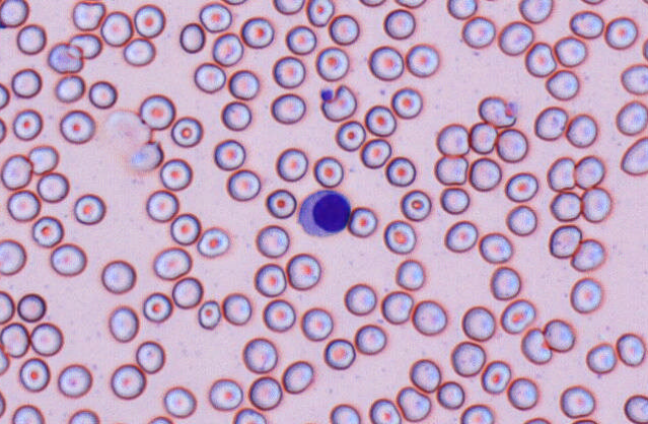LYM: (296, 188, 352, 238)
PLT: (319, 87, 333, 101)
RBC: (103, 109, 151, 147), (139, 93, 175, 130), (110, 363, 146, 399), (286, 253, 321, 290), (153, 246, 191, 280), (450, 340, 485, 376), (411, 299, 446, 335), (500, 298, 535, 334), (242, 337, 277, 373), (59, 109, 95, 144), (368, 45, 404, 80), (49, 242, 86, 276), (57, 363, 92, 398), (101, 259, 136, 294), (396, 386, 431, 421), (498, 20, 533, 55), (461, 305, 495, 341), (559, 384, 595, 418), (248, 375, 282, 410), (315, 46, 349, 81), (100, 10, 133, 46), (405, 43, 439, 77), (534, 105, 567, 140), (383, 219, 416, 254), (0, 153, 32, 189), (570, 277, 602, 313), (108, 305, 139, 342), (262, 298, 295, 332), (226, 168, 260, 201), (30, 322, 63, 356), (571, 238, 605, 271), (468, 157, 501, 191), (548, 224, 581, 258), (542, 318, 575, 352), (436, 122, 469, 156), (461, 15, 495, 48), (255, 224, 289, 257), (275, 147, 308, 181), (604, 16, 638, 49), (18, 357, 50, 392), (615, 100, 647, 135), (133, 3, 165, 38), (208, 378, 243, 410), (573, 154, 605, 189), (565, 113, 597, 148), (270, 92, 305, 124), (47, 42, 83, 73), (525, 41, 556, 77), (145, 189, 178, 222), (163, 385, 196, 418), (159, 157, 192, 190), (272, 55, 305, 88), (381, 290, 413, 324), (6, 189, 40, 221), (409, 358, 441, 392), (301, 307, 333, 341), (444, 220, 478, 252), (254, 262, 286, 296), (240, 16, 274, 48), (480, 359, 511, 394), (581, 187, 612, 222), (479, 231, 512, 263), (554, 35, 587, 67), (390, 86, 422, 119), (434, 154, 468, 185), (504, 171, 538, 202), (496, 128, 527, 162), (489, 266, 520, 300), (507, 376, 538, 410), (212, 32, 243, 66), (545, 69, 579, 100), (620, 136, 647, 175), (344, 283, 376, 315), (31, 215, 63, 247), (171, 276, 203, 308), (364, 104, 396, 136), (213, 138, 245, 170), (170, 115, 202, 147), (36, 172, 69, 203), (193, 62, 226, 93), (282, 360, 313, 393), (196, 226, 229, 257), (169, 212, 200, 245), (0, 322, 29, 357), (546, 156, 575, 191), (569, 9, 604, 38), (323, 338, 355, 369), (335, 119, 366, 151), (354, 323, 386, 354), (505, 204, 537, 235), (313, 155, 344, 187), (585, 342, 616, 374), (383, 8, 415, 39), (328, 13, 359, 45), (73, 193, 105, 224), (400, 189, 431, 221), (221, 292, 251, 325), (135, 340, 165, 373), (616, 332, 645, 366), (0, 238, 26, 275), (220, 100, 251, 131), (385, 155, 416, 186), (228, 69, 259, 100), (12, 108, 42, 140), (199, 2, 231, 32), (468, 121, 497, 154), (122, 37, 155, 66), (11, 67, 41, 98), (550, 191, 581, 221), (16, 23, 46, 54), (28, 144, 59, 174), (360, 138, 391, 168), (347, 206, 377, 237), (285, 24, 316, 54), (265, 188, 296, 218), (395, 258, 424, 290), (142, 292, 172, 322), (16, 292, 46, 322), (54, 74, 85, 102), (620, 63, 647, 95), (88, 80, 117, 109), (439, 186, 469, 214), (368, 398, 401, 423), (436, 380, 464, 409), (179, 22, 205, 53), (518, 0, 552, 23), (0, 0, 28, 27), (306, 0, 334, 26), (197, 299, 221, 329), (624, 394, 647, 423), (11, 403, 44, 423), (460, 403, 493, 423), (329, 403, 360, 423), (446, 0, 477, 19), (232, 407, 267, 423), (67, 408, 99, 423), (0, 290, 14, 323), (272, 0, 304, 14), (394, 0, 426, 8), (0, 347, 9, 375), (0, 82, 9, 109), (147, 415, 173, 423), (522, 416, 551, 423), (358, 0, 386, 7), (0, 116, 7, 142), (0, 390, 6, 417), (642, 37, 648, 60), (570, 418, 597, 423), (222, 0, 247, 5), (580, 0, 604, 5)
Schistocyte: (321, 84, 358, 123), (478, 97, 518, 127), (70, 1, 107, 32), (131, 140, 164, 170), (70, 34, 101, 59)
